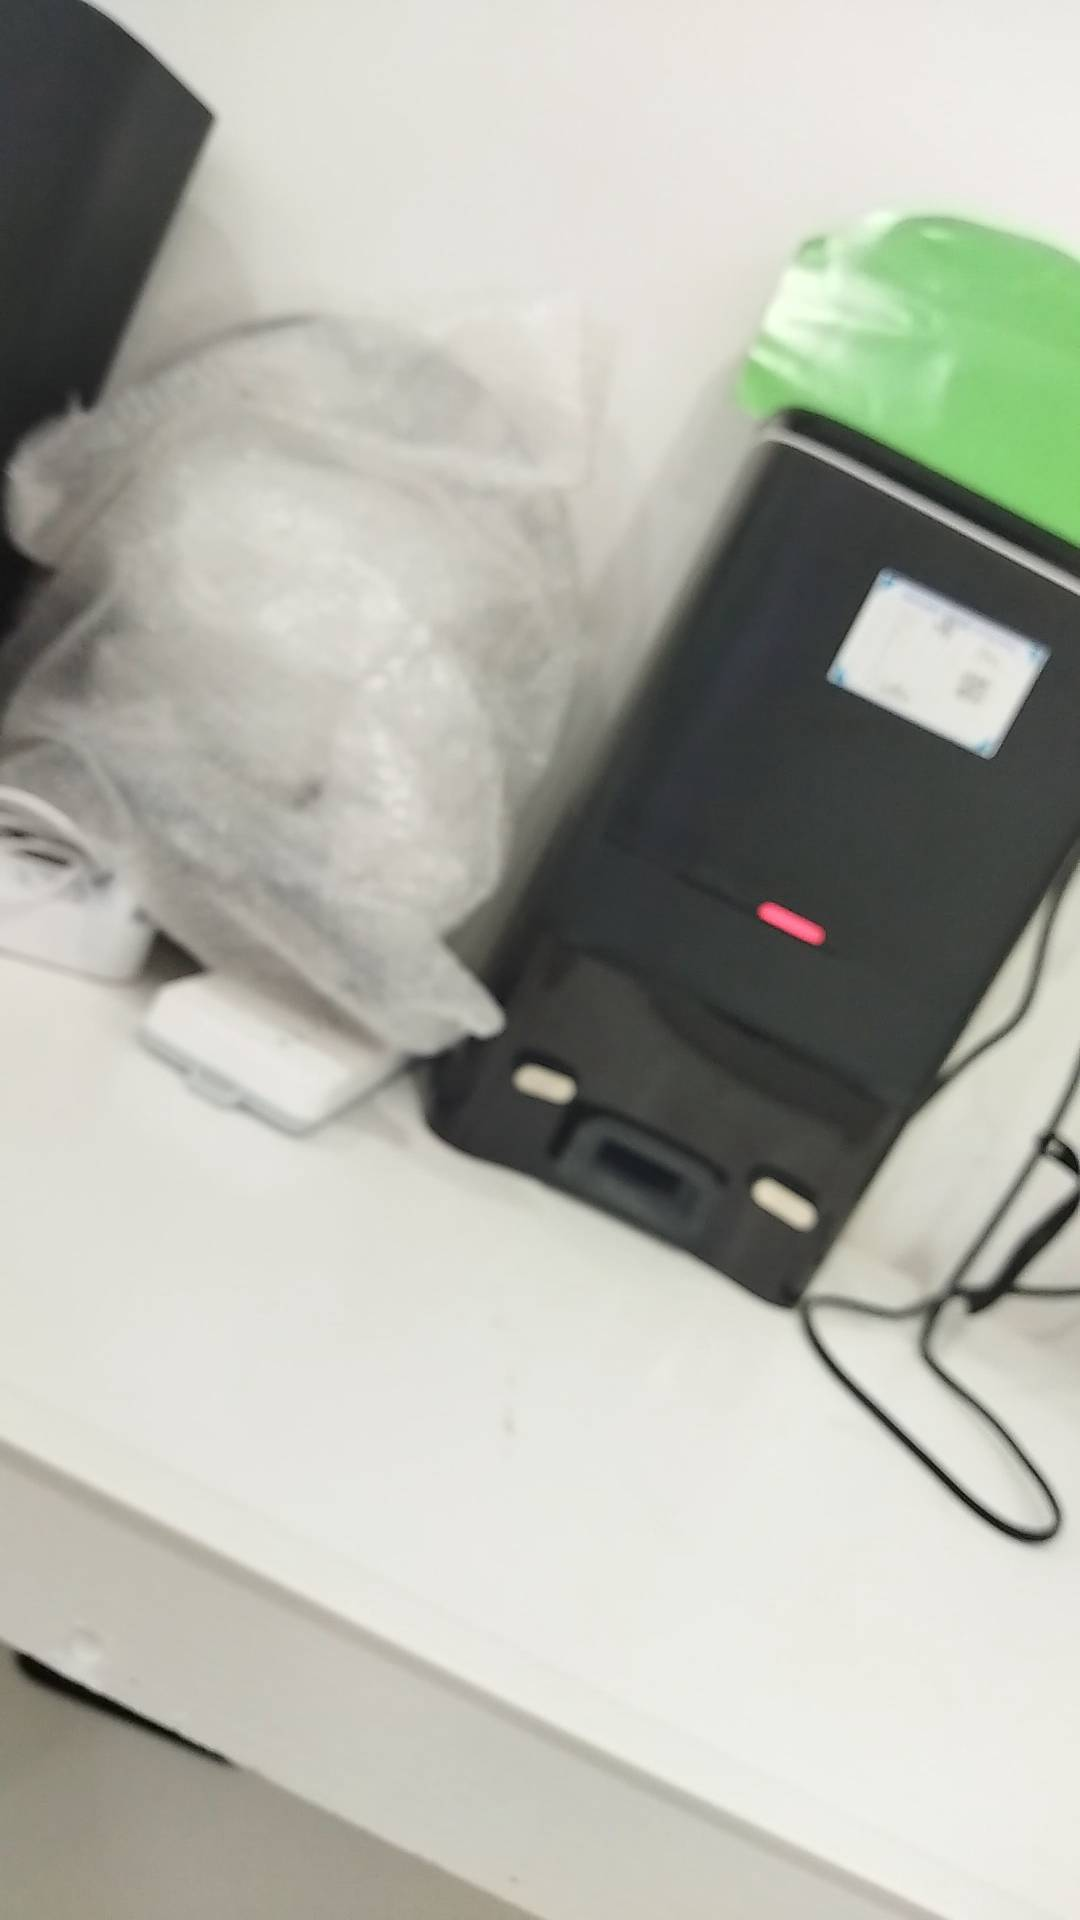dust collecting barrel: (426, 406, 1080, 1313)
